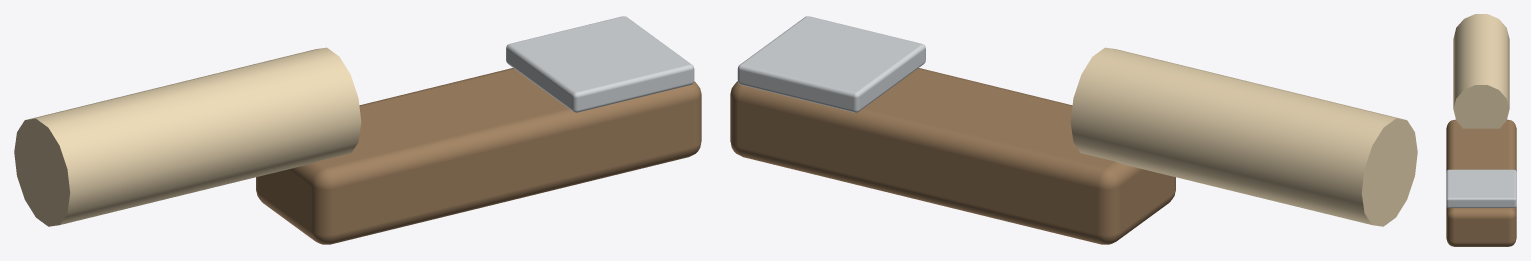
The model's file is marquetry-and-veneer-inlay-workshop-scraper-holder-wit-824ce58f__39129.glb.
The picture shows the model from 3 angles, left to right: view 1: azimuth 30°, elevation 25°; view 2: azimuth 150°, elevation 25°; view 3: azimuth 270°, elevation 25°; orthographic projection. The views are drawn at different scales.
Parts seen in each view (by area): view 1: scraper-holder-with-curved-blade; view 2: scraper-holder-with-curved-blade; view 3: scraper-holder-with-curved-blade.
Boxes of the visible parts, box(x1,y1,x2,y2) form: scraper-holder-with-curved-blade: box(14, 16, 701, 244); scraper-holder-with-curved-blade: box(730, 16, 1417, 244); scraper-holder-with-curved-blade: box(1446, 14, 1516, 246).
Size of the model in its own units: 0.26 by 0.0645 by 0.05.
